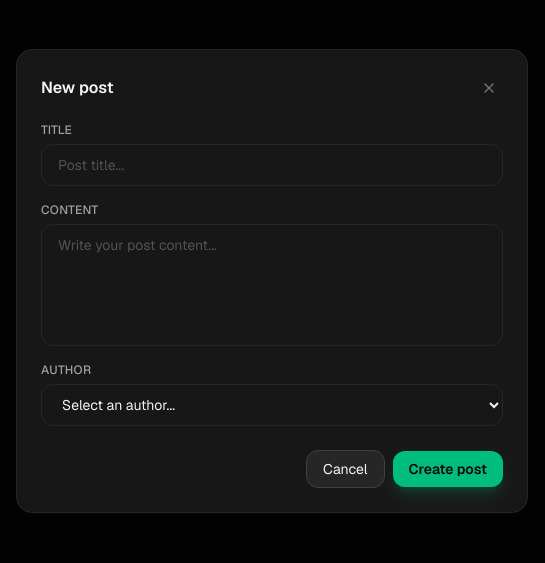
Test case: PostForm › shows error when title is too short
This screenshot has width=545, height=563.
Type "Hi" into the field with placeholder "Post title..." at (272, 165), box [41,144,503,186]
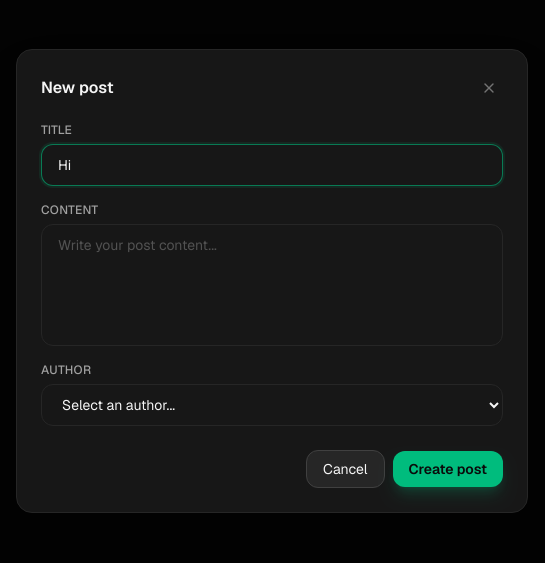
Click the button "Create post" at (448, 469), box [392,451,503,487]
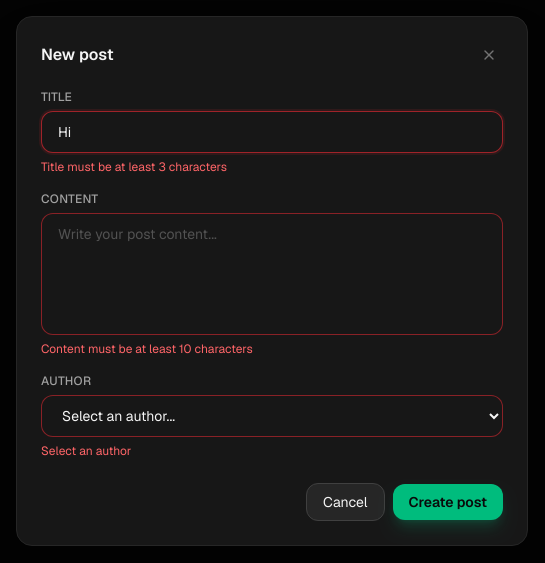
Check: the text "Title must be at least 3 characters" is shown, box [41,159,227,175]
